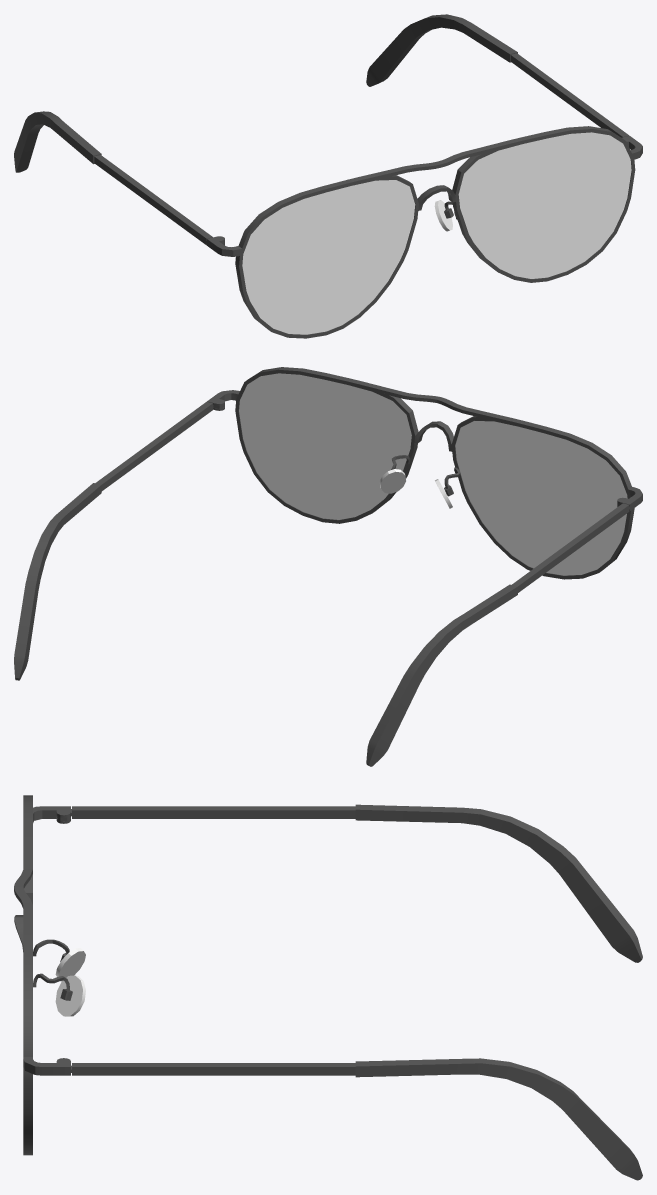
File: Glasses_TFM#1_vrc.fbx
3 views of the same model, one above another, from view 1: azimuth 30°, elevation 25°; view 2: azimuth 150°, elevation 25°; view 3: azimuth 270°, elevation 25° (orthographic). The views are drawn at different scales.
Visible parts, largest first — view 1: Glasses_TFM#1_vrc; view 2: Glasses_TFM#1_vrc; view 3: Glasses_TFM#1_vrc.
Boxes of the visible parts, x1=… form: Glasses_TFM#1_vrc: x1=14, y1=14, x2=642, y2=338; Glasses_TFM#1_vrc: x1=14, y1=367, x2=642, y2=766; Glasses_TFM#1_vrc: x1=14, y1=795, x2=642, y2=1180.
Size of the model in its own units: 0.1305 by 0.0431 by 0.1325.
2 materials, 2 textured.
